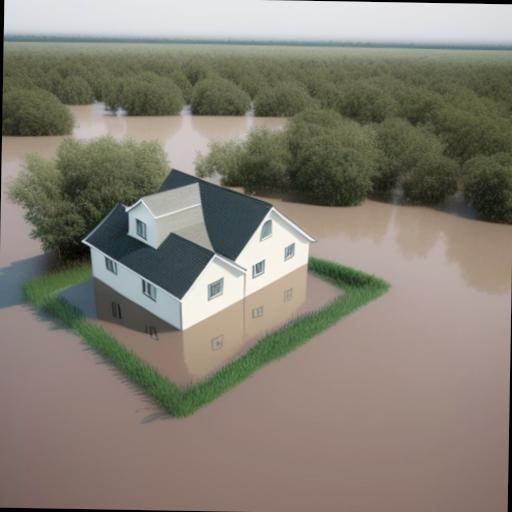flood: (0, 138, 512, 512), (68, 267, 341, 386), (69, 103, 288, 174)
house: (79, 164, 319, 335)
